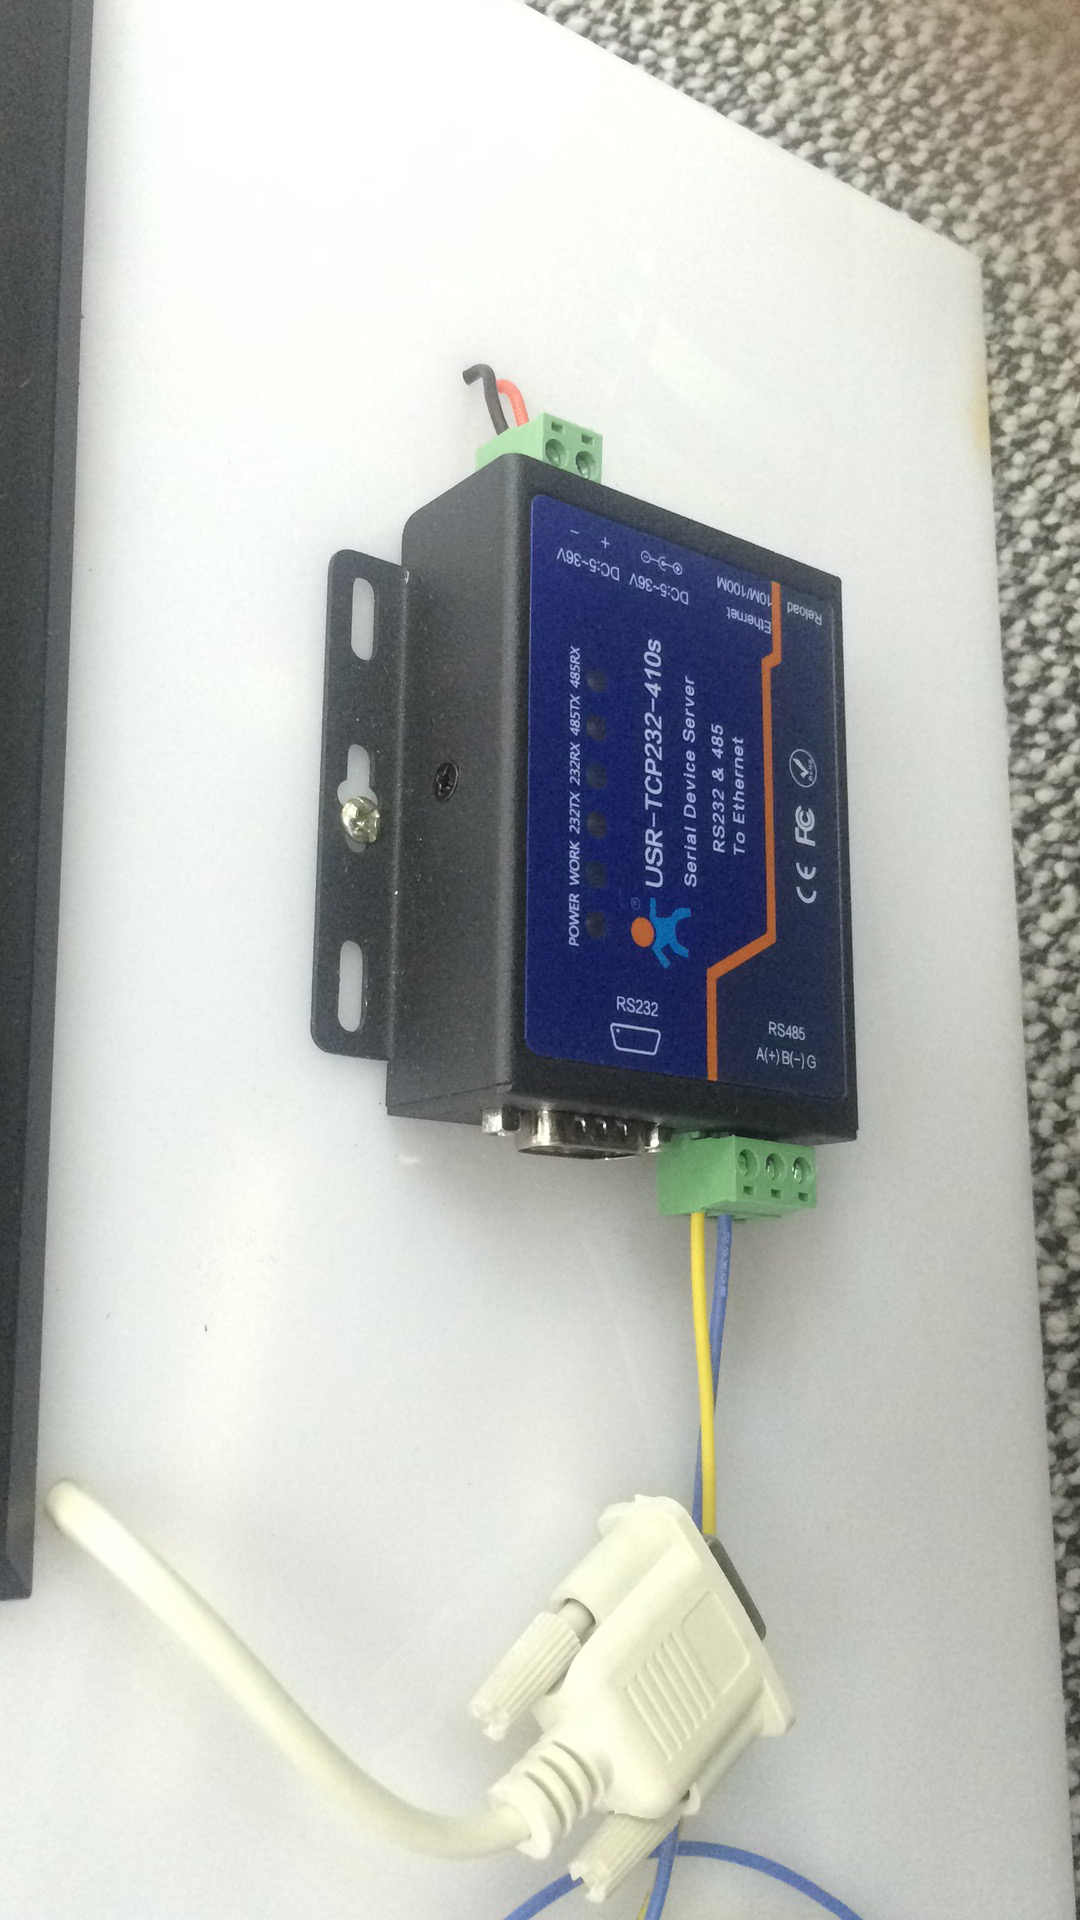modbus bridge: (301, 407, 947, 1230)
